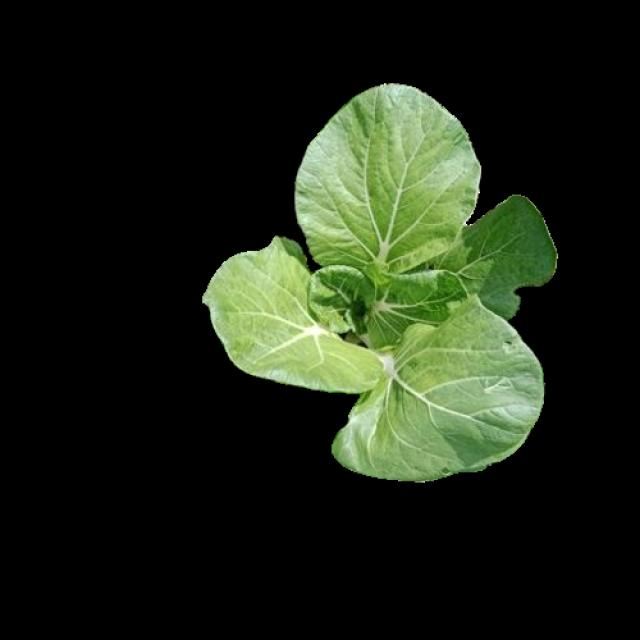healthy: (204, 94, 552, 478)
mature: (202, 84, 554, 482)
